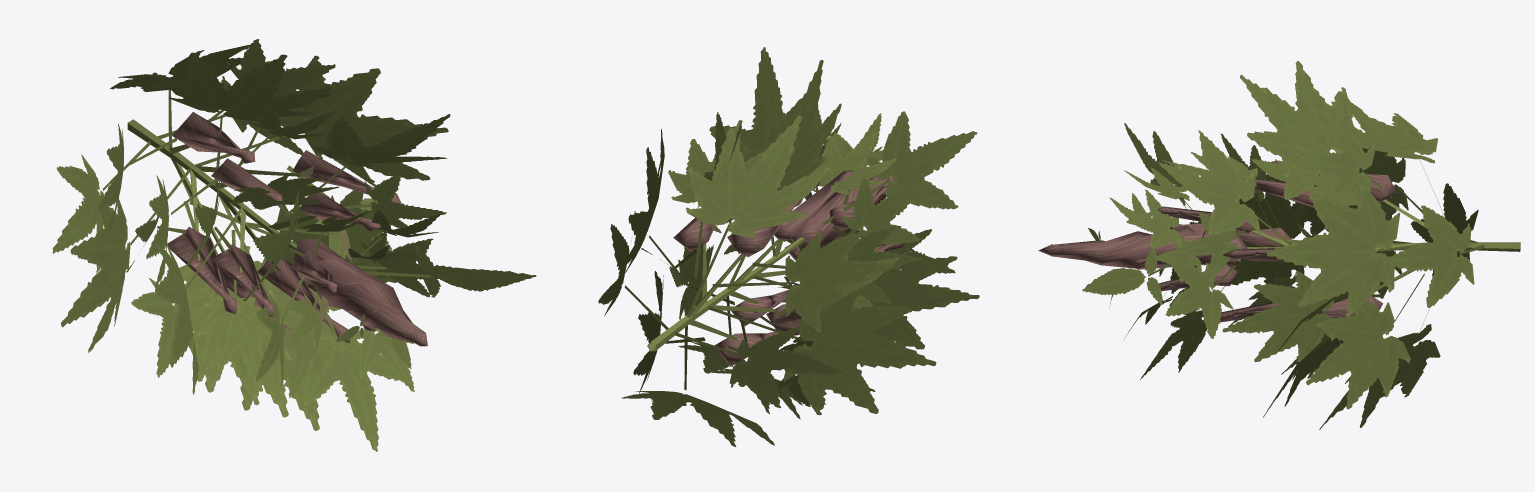
The model's file is p_purple_tree_flowering_c1_cards.obj.
The picture shows the model from 3 angles, left to right: view 1: azimuth 30°, elevation 25°; view 2: azimuth 150°, elevation 25°; view 3: azimuth 270°, elevation 25°; orthographic projection. The views are drawn at different scales.
Size of the model in its own units: 1.48 by 1.58 by 1.8.
1 material, 1 textured.
